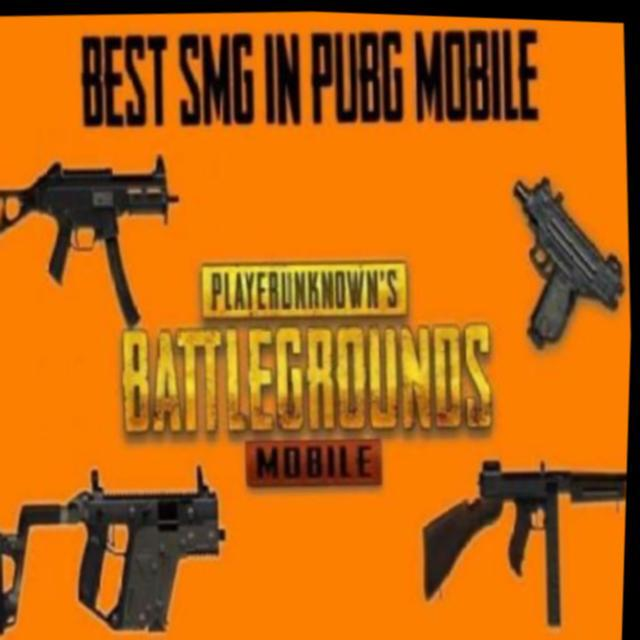weapon: (0, 453, 234, 640), (417, 442, 630, 632), (0, 146, 187, 336), (507, 165, 631, 348)
